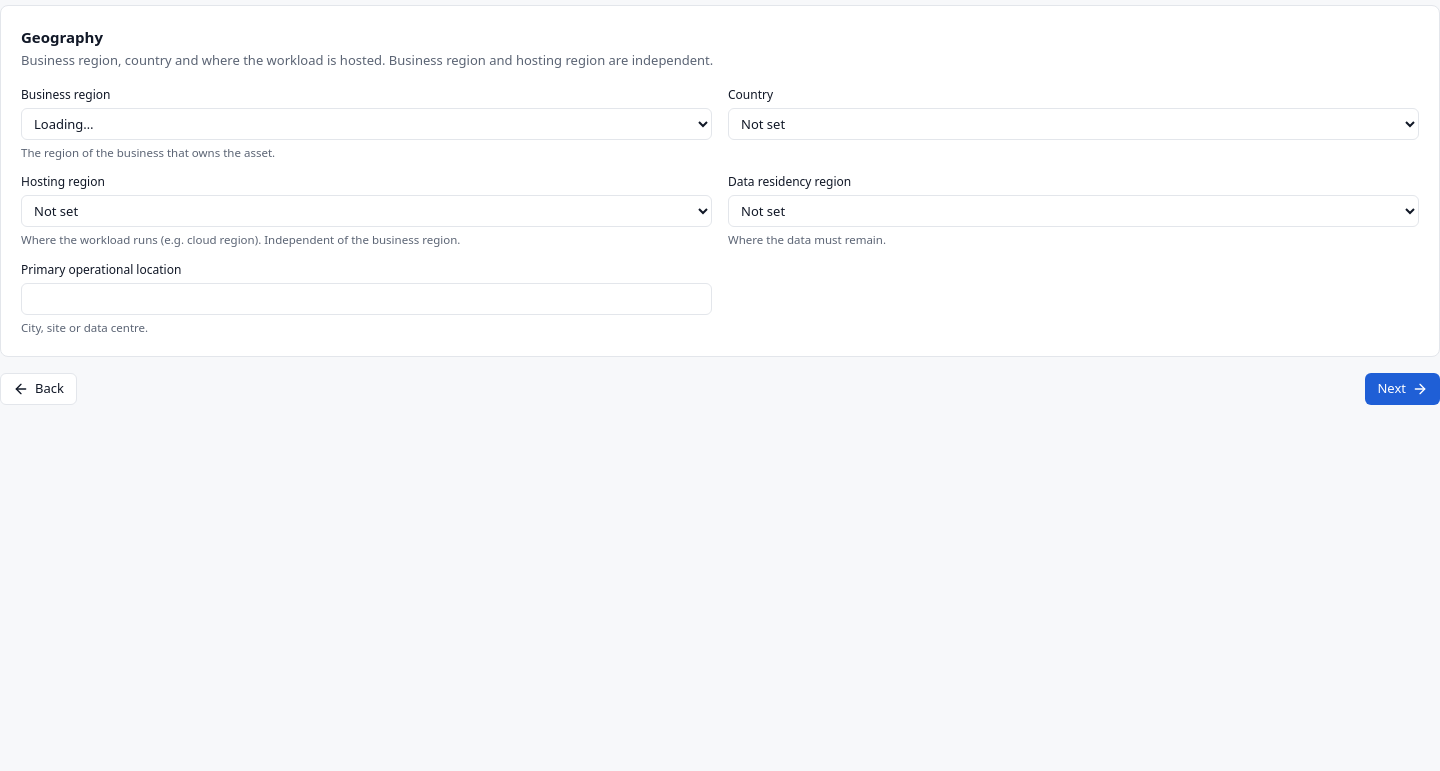
it: onboarding wizard › reuses the idempotency key when a submission is retried after a network error
Earlier steps of the test are not shown.
Later steps or results of the test are not shown.
Check: the heading "Geography" is shown, box x1=21 y1=27 x2=103 y2=47
Click the button "Next": (1403, 389) x1=1366 y1=373 x2=1439 y2=405
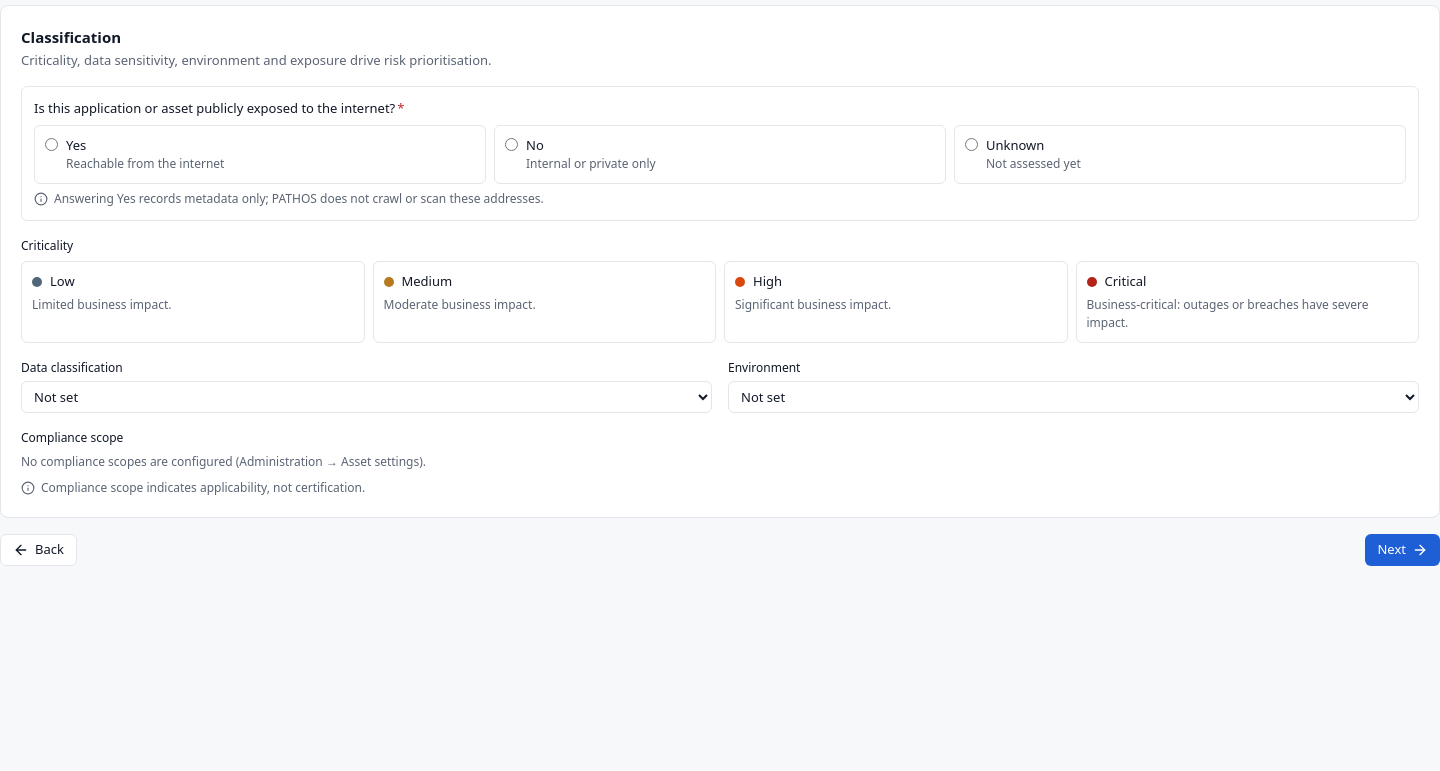
Check: the heading "Classification" is shown, box x1=21 y1=27 x2=121 y2=47
Click the radio button labelled "Unknown Not assessed yet": (972, 144) x1=965 y1=138 x2=978 y2=150
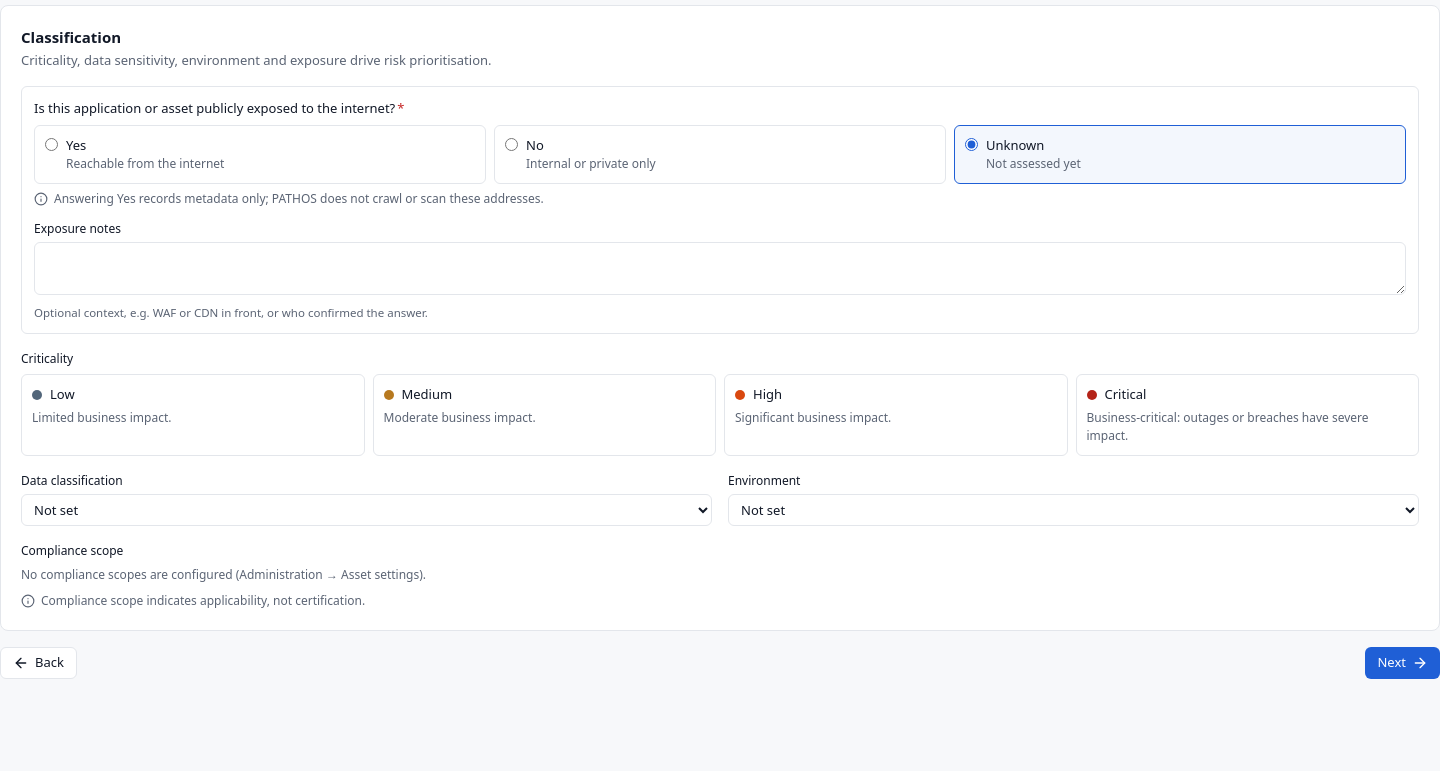
Click the button "Next": (1403, 663) x1=1366 y1=647 x2=1439 y2=679
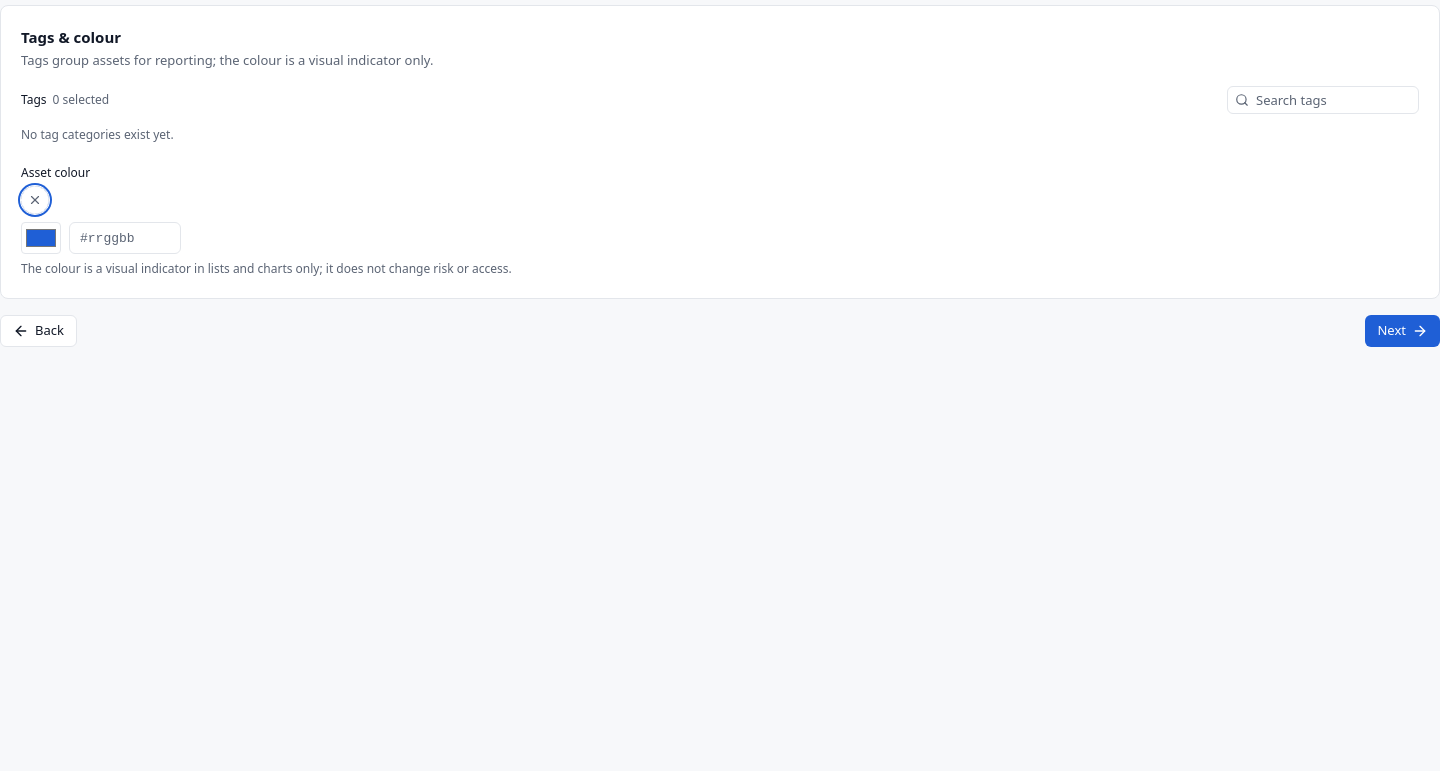
Check: the heading "Tags & colour" is shown, box x1=21 y1=27 x2=121 y2=47
Click the button "Next": (1403, 331) x1=1366 y1=315 x2=1439 y2=347
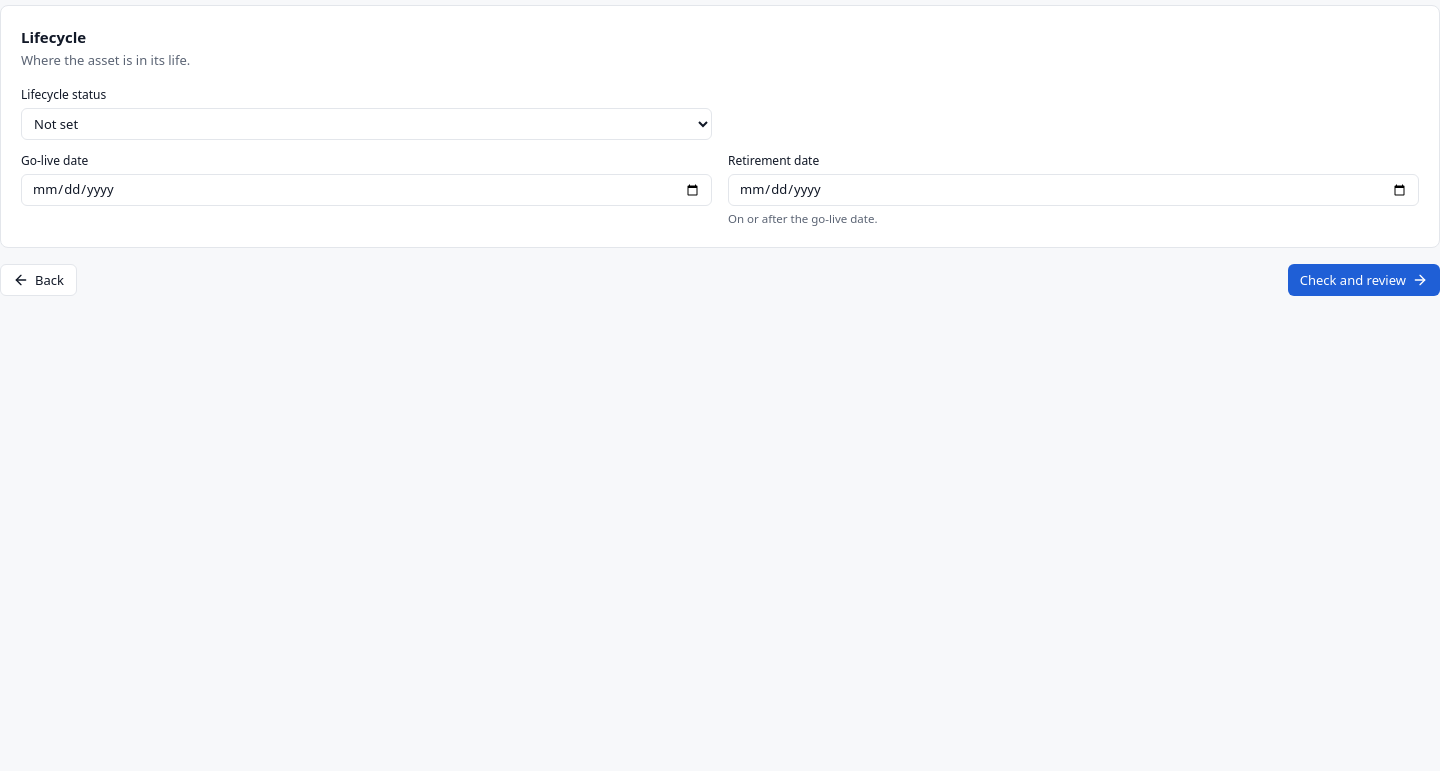
Check: the heading "Lifecycle" is shown, box x1=21 y1=27 x2=86 y2=47
Click the button "Check and review": (1364, 280) x1=1288 y1=264 x2=1439 y2=296
(page scrolled)
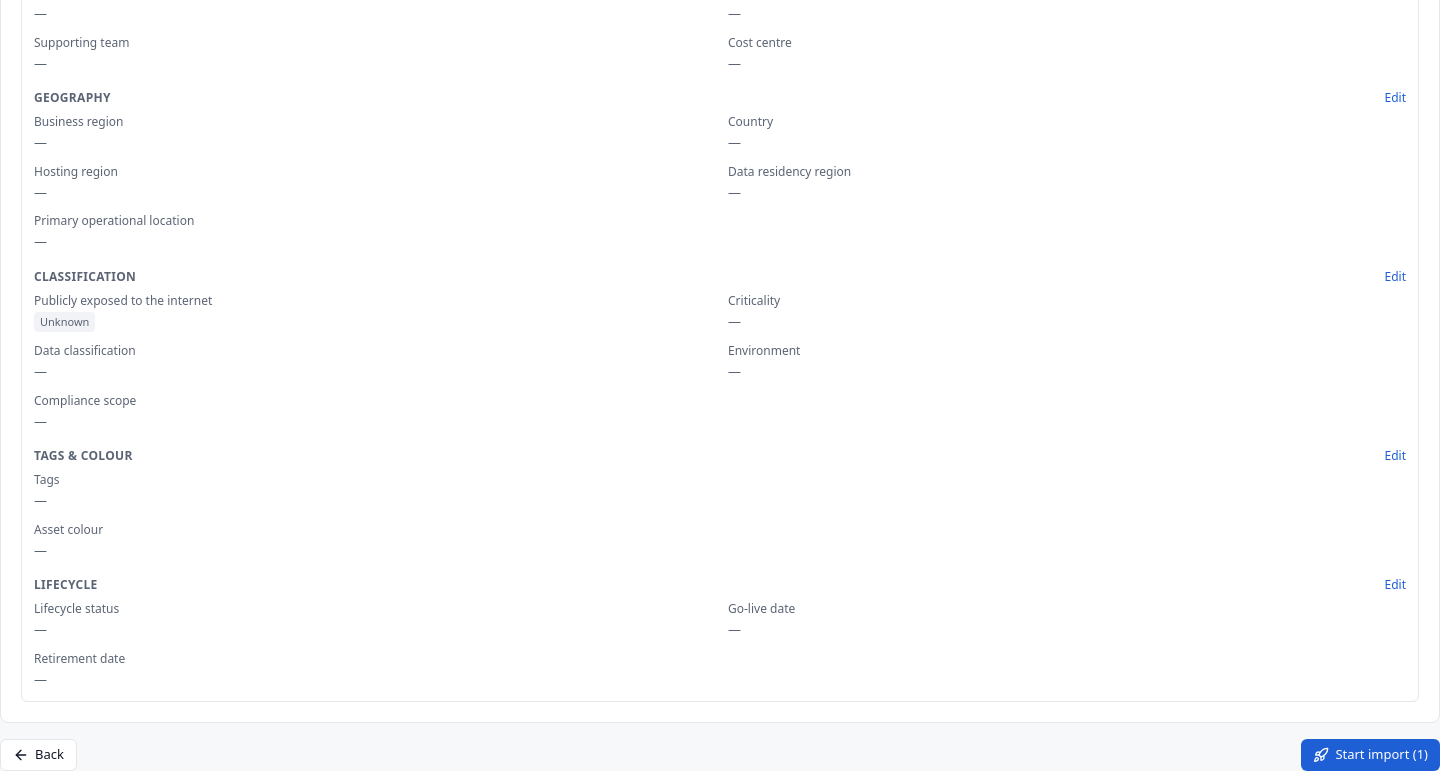
Click the button "Start import (1)": (1371, 755) x1=1301 y1=739 x2=1439 y2=770
(page scrolled)
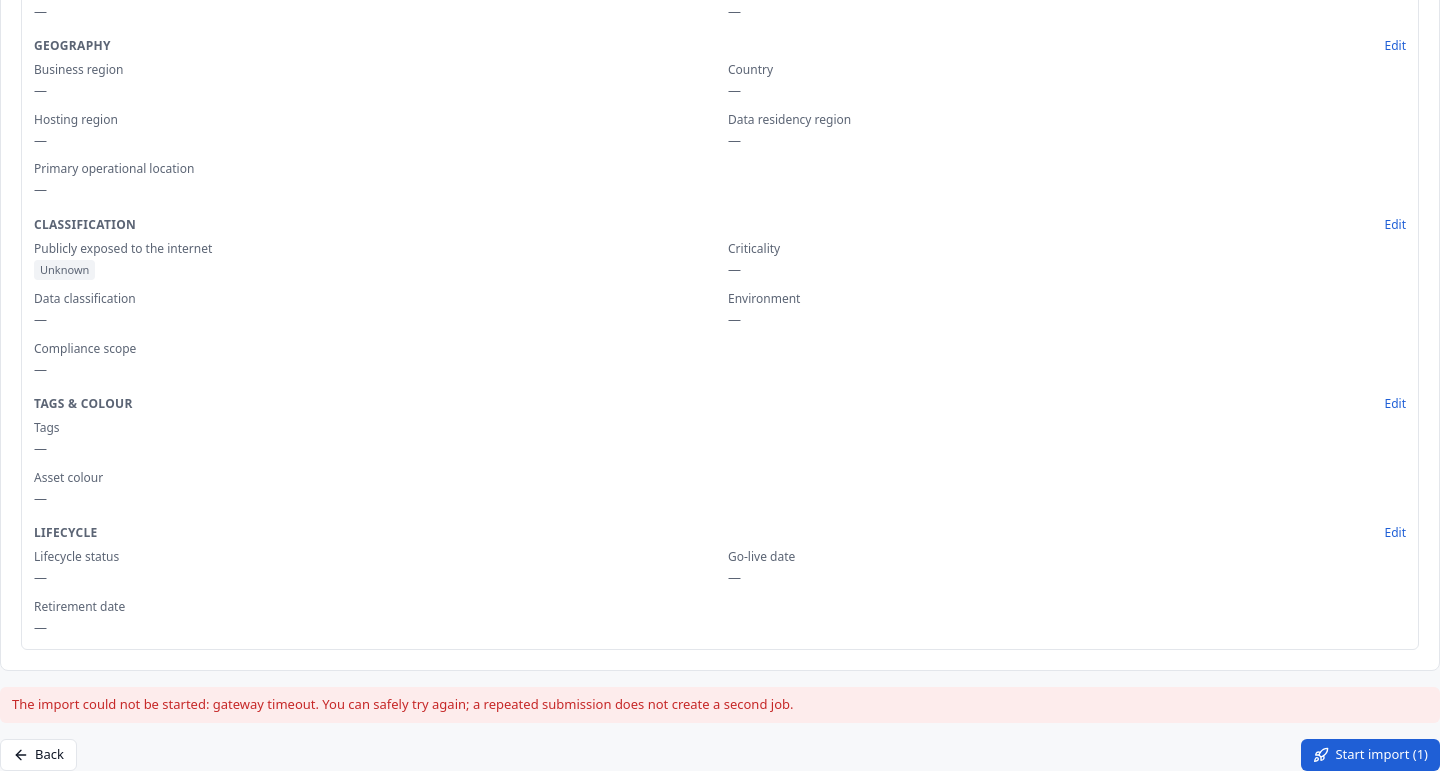
Check: the text "could not be started" is shown, box x1=12 y1=695 x2=794 y2=713
